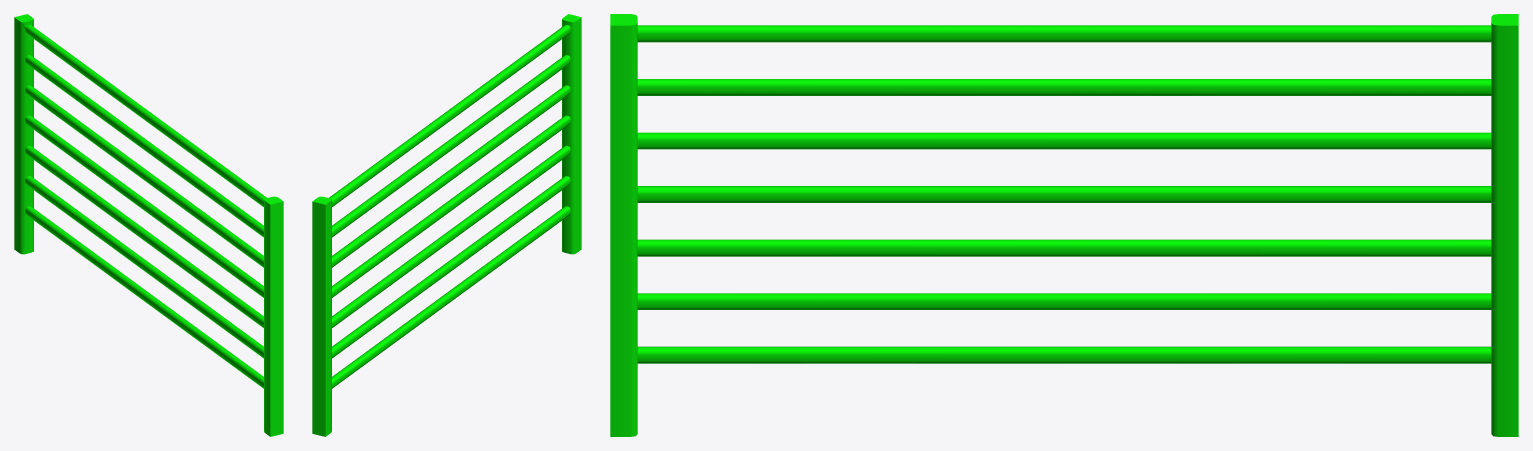
The model's file is Panel_Meta;.fbx.
3 renders of one model, left to right at view 1: azimuth 30°, elevation 25°; view 2: azimuth 150°, elevation 25°; view 3: azimuth 270°, elevation 25°, orthographic. The views are drawn at different scales.
Visible parts, largest first — view 1: Panel_Metal; view 2: Panel_Metal; view 3: Panel_Metal.
Part boxes in pixels (x1=…): Panel_Metal: x1=14, y1=14, x2=283, y2=436; Panel_Metal: x1=312, y1=14, x2=581, y2=436; Panel_Metal: x1=610, y1=14, x2=1518, y2=436.
Size of the model in its own units: 0.15 by 2.5 by 5.
